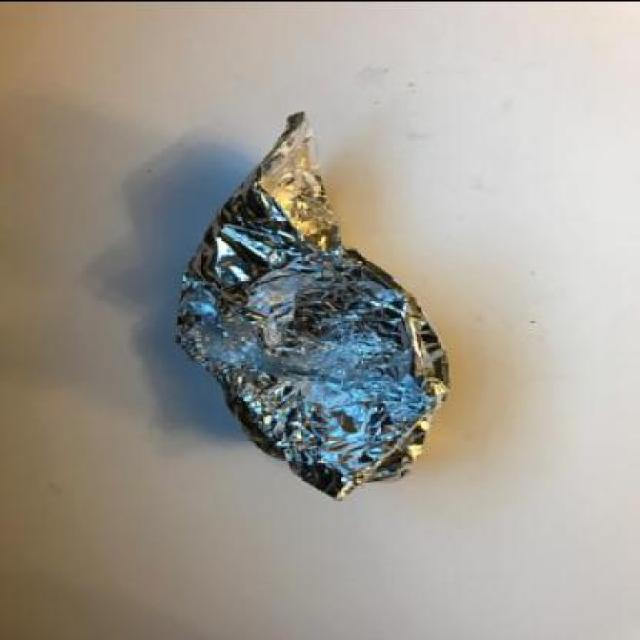METAL: (170, 107, 447, 498)
